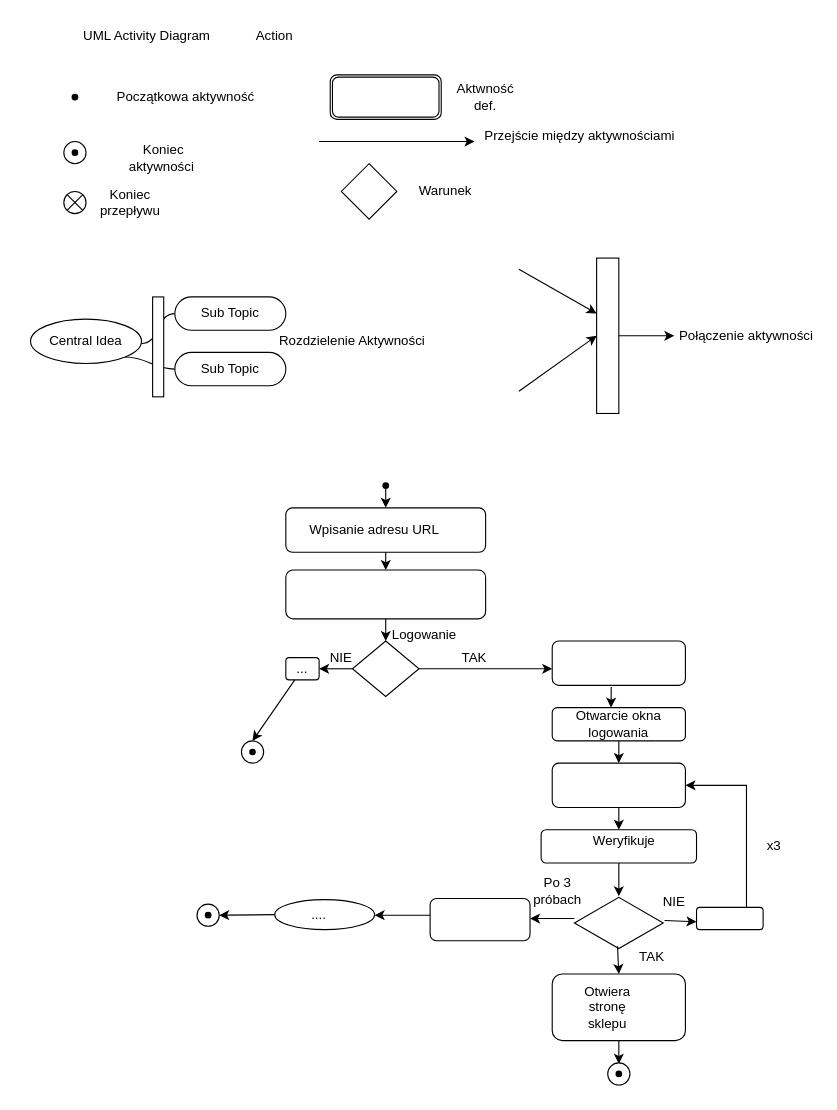
This 837x1110 diagram has some shape labels left out. The box of each missing label's shape, as (x1, y1, x2, y2) in pixels:
Klikniecie okna logowania: (551, 640, 685, 685)
nazwa aktywności: (329, 74, 441, 119)
Otwarcie strony sklepu: (285, 569, 486, 619)
Wypełnienie danych logowania: (551, 762, 685, 808)
Zablokowanie konta: (429, 897, 530, 941)
